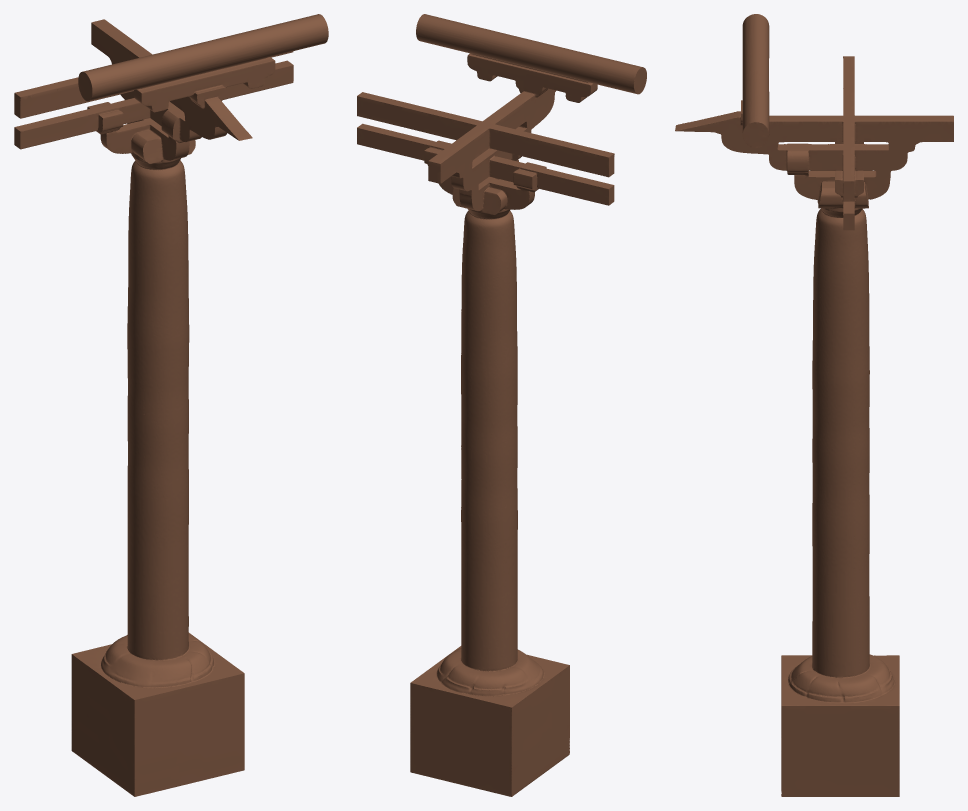
The picture shows the model from 3 angles, left to right: view 1: azimuth 30°, elevation 25°; view 2: azimuth 150°, elevation 25°; view 3: azimuth 270°, elevation 25°; orthographic projection. The views are drawn at different scales.
Parts seen in each view (by area): view 1: model; view 2: model; view 3: model.
Part boxes in pixels (x1,y1,x2,y2): model: [14, 14, 328, 796]; model: [357, 14, 646, 796]; model: [675, 14, 953, 796].
Size of the model in its own units: 0.7004 by 1.84 by 0.6597.
